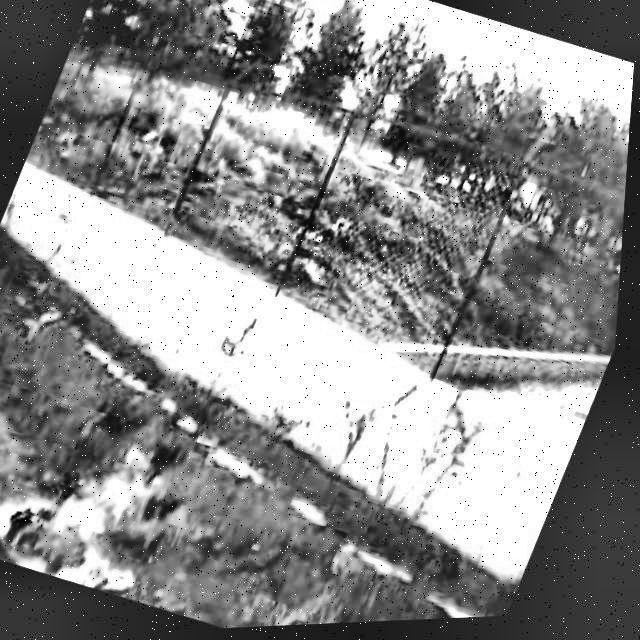Fire: (0, 420, 224, 617)
